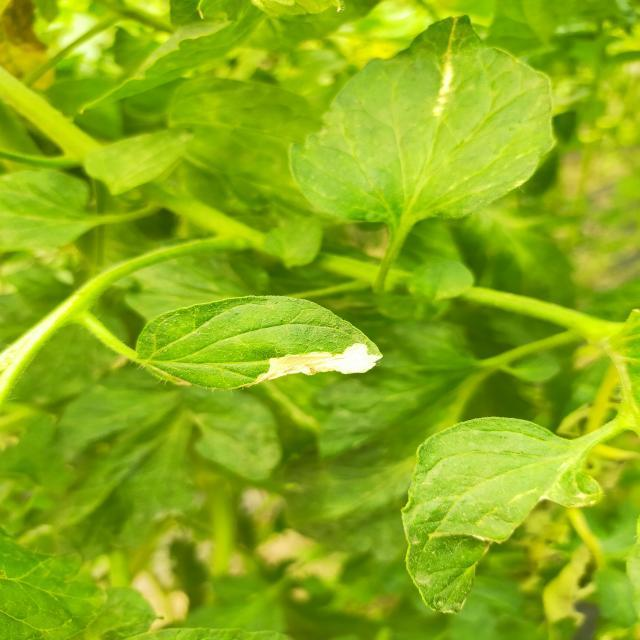Tuta absoluta: (250, 340, 384, 388)
